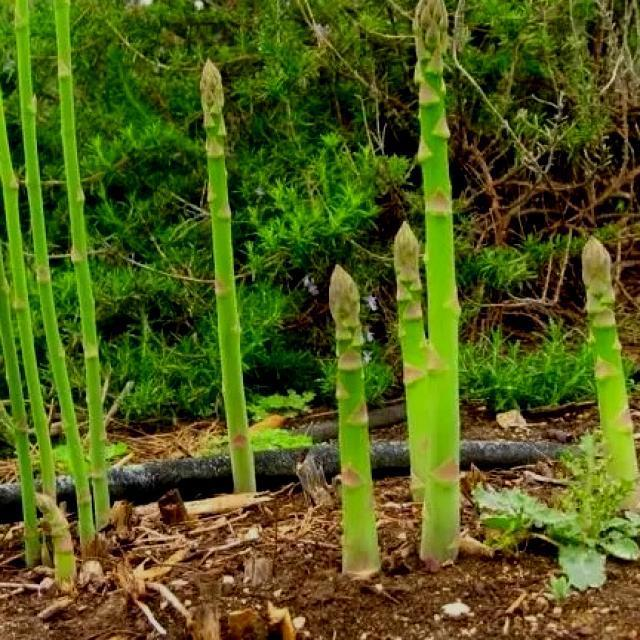aspargus: (414, 0, 459, 568), (200, 62, 252, 494), (330, 266, 383, 580), (583, 241, 640, 491)
